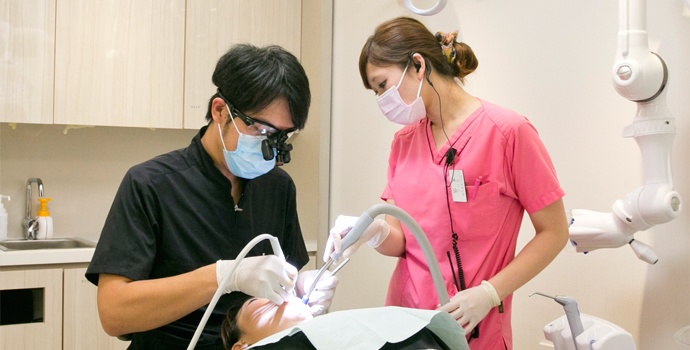mask: (222, 135, 278, 177), (376, 87, 426, 126)
